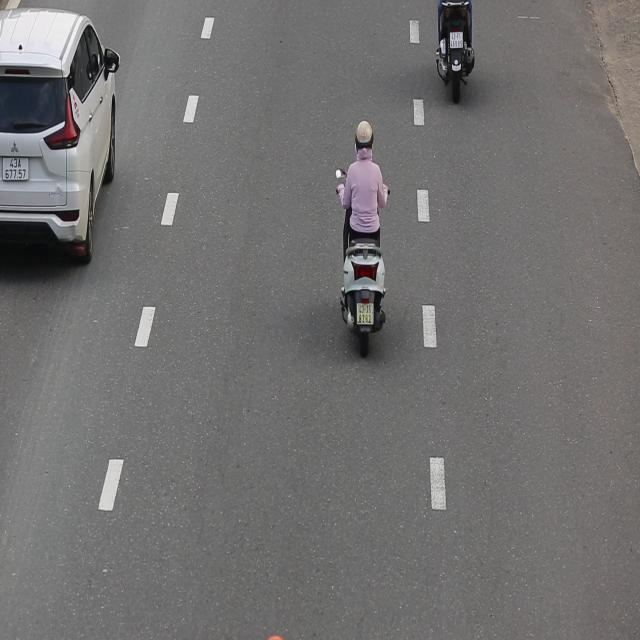motorbike: (334, 120, 391, 358)
